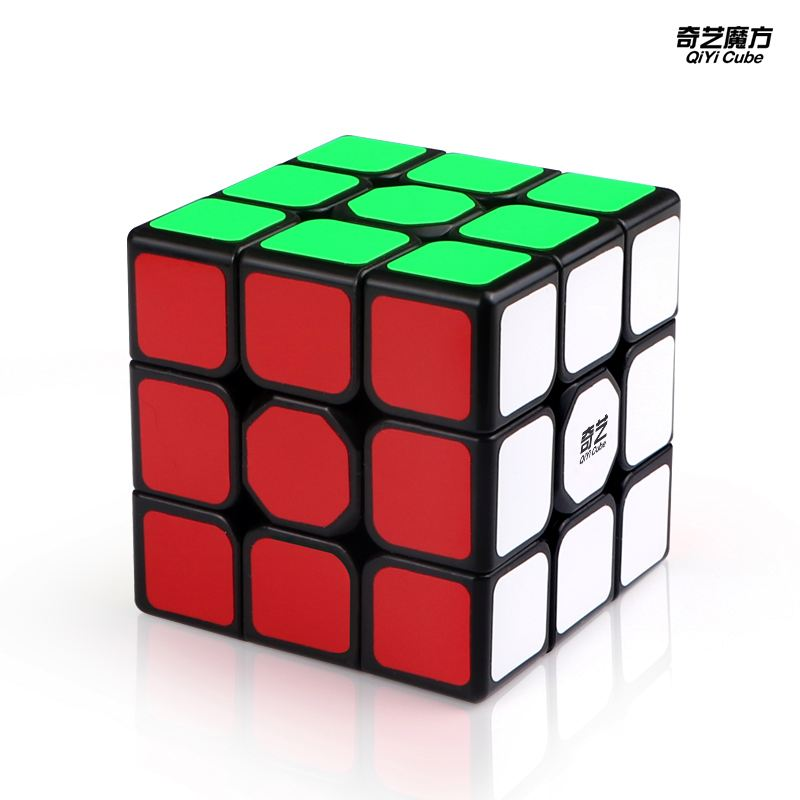cube: (111, 126, 691, 705)
